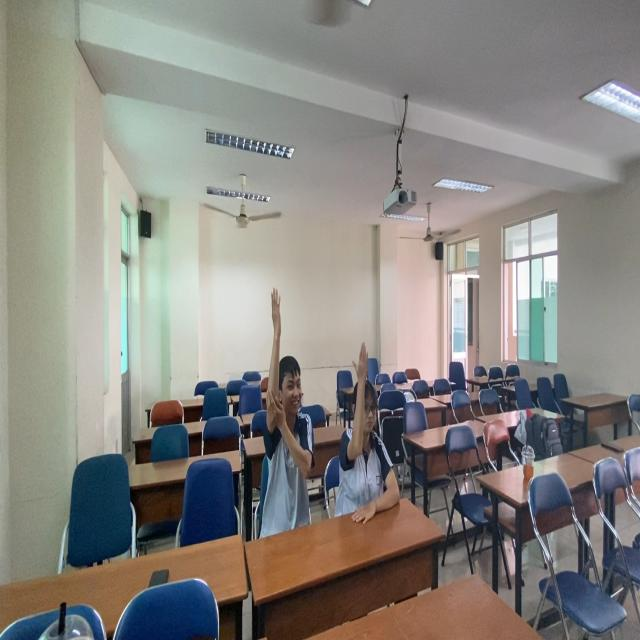raise_hand: (256, 281, 318, 512), (336, 338, 405, 532)
